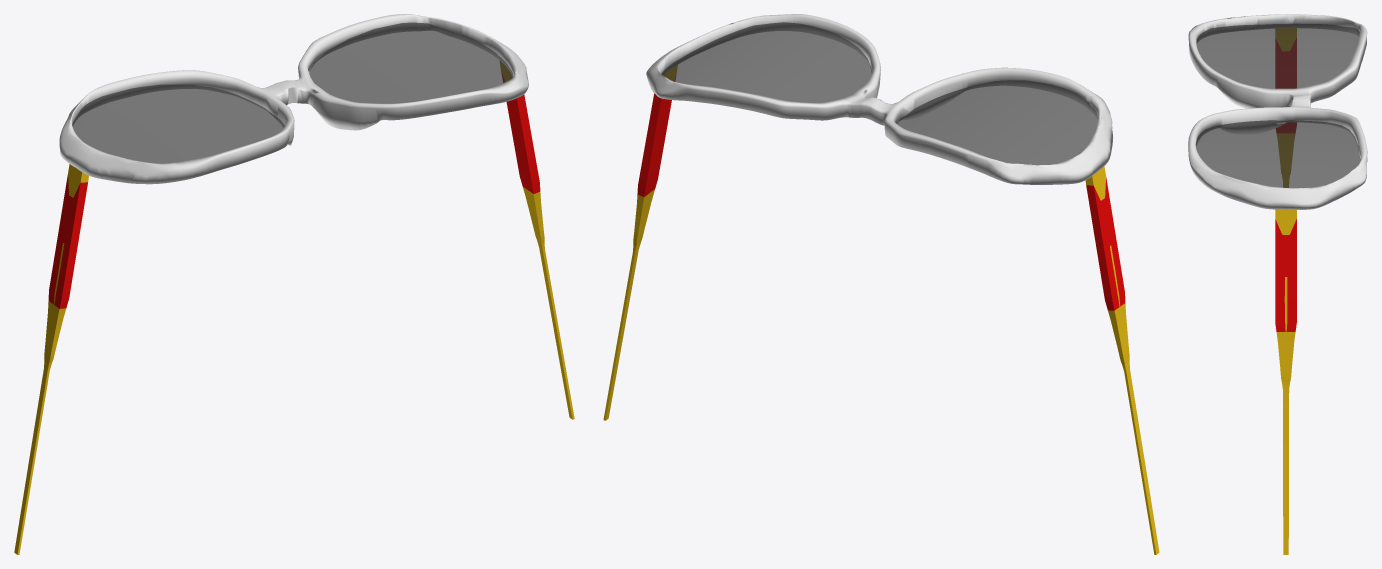
3 renders of one model, left to right at view 1: azimuth 30°, elevation 25°; view 2: azimuth 150°, elevation 25°; view 3: azimuth 270°, elevation 25°, orthographic. The views are drawn at different scales.
Parts seen in each view (by area): view 1: Tube002, Plane001, Plane002, Box006, Box007, Box010, Box013; view 2: Tube002, Plane001, Plane002, Box006, Box007, Box010, Box013; view 3: Tube002, Plane002, Plane001, Box013, Box010, Box006, Box007, Box012, Box011.
Boxes of the visible parts, x1=… form: Tube002: x1=59, y1=14, x2=528, y2=184; Plane001: x1=72, y1=84, x2=284, y2=163; Plane002: x1=309, y1=22, x2=513, y2=103; Box006: x1=54, y1=164, x2=88, y2=268; Box007: x1=44, y1=260, x2=73, y2=362; Box010: x1=515, y1=149, x2=544, y2=242; Box013: x1=500, y1=61, x2=534, y2=157; Tube002: x1=646, y1=14, x2=1112, y2=184; Plane001: x1=897, y1=80, x2=1097, y2=165; Plane002: x1=661, y1=22, x2=872, y2=102; Box006: x1=1085, y1=166, x2=1119, y2=271; Box007: x1=1100, y1=262, x2=1129, y2=363; Box010: x1=633, y1=152, x2=662, y2=245; Box013: x1=643, y1=65, x2=677, y2=160; Tube002: x1=1188, y1=14, x2=1367, y2=209; Plane002: x1=1196, y1=120, x2=1360, y2=188; Plane001: x1=1196, y1=23, x2=1359, y2=88; Box013: x1=1275, y1=209, x2=1296, y2=295; Box010: x1=1275, y1=296, x2=1296, y2=381; Box006: x1=1275, y1=28, x2=1296, y2=88; Box007: x1=1276, y1=106, x2=1296, y2=174; Box012: x1=1282, y1=382, x2=1289, y2=468; Box011: x1=1283, y1=468, x2=1288, y2=554.
Bounding box in the file's own units: 180 × 125 × 57.97.
